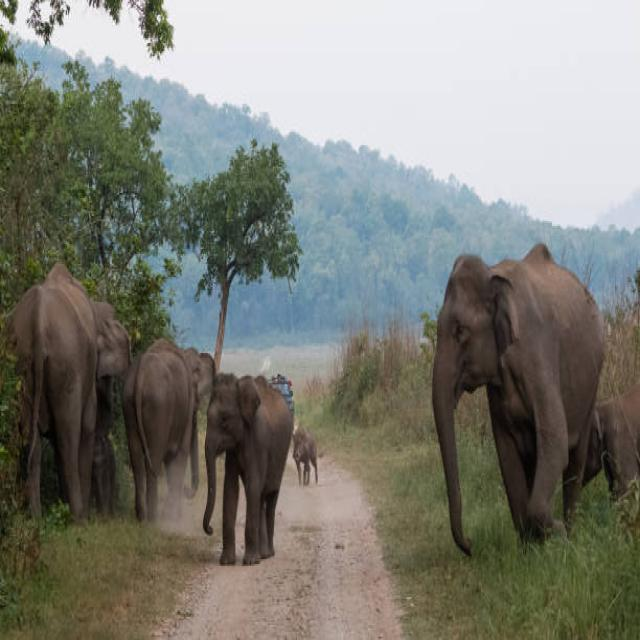Elephant: (432, 232, 610, 570), (11, 242, 107, 518), (199, 369, 293, 598), (118, 329, 199, 535), (284, 418, 336, 502)
